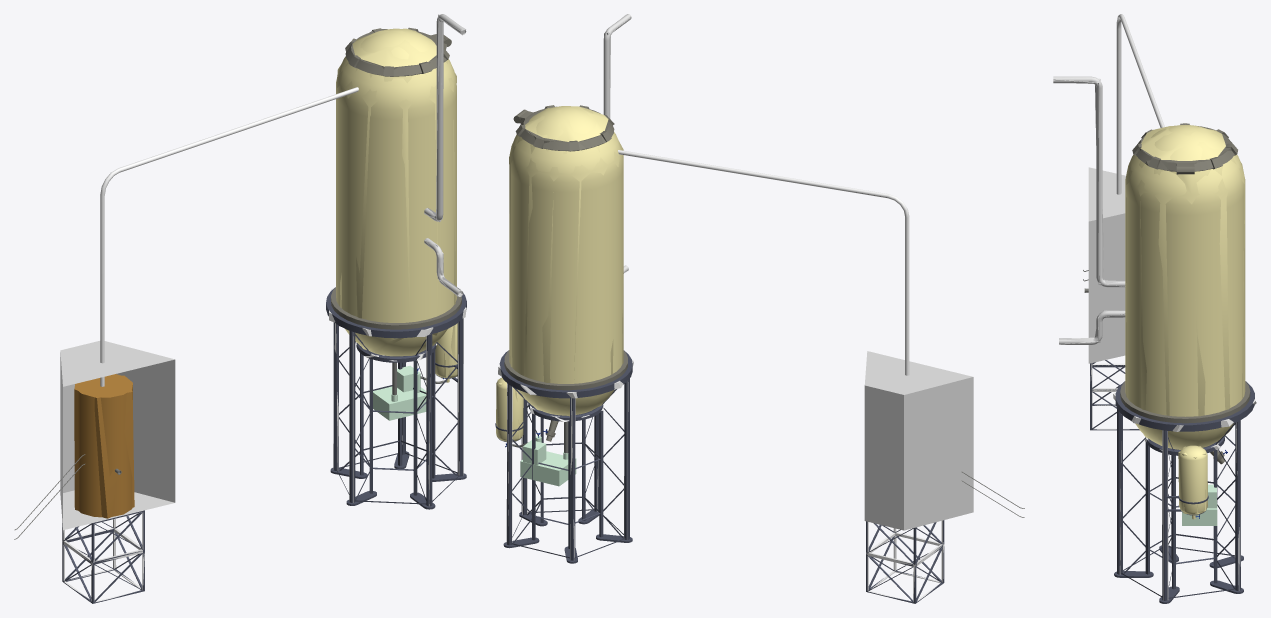
Rendered from Molten_Soil_Reactor.glb.
3 renders of one model, left to right at view 1: azimuth 30°, elevation 25°; view 2: azimuth 150°, elevation 25°; view 3: azimuth 270°, elevation 25°, orthographic. The views are drawn at different scales.
Visible parts, largest first — view 1: ReactorTank_M, MoltenSoilReactor_LOD0, MoltenSoilReactor_Tower_M, WaterTankStuff_M, WaterTank_M, ReactorTankConnections_M, MSReactor-HeatExchangerPipe_M, MSReactor-Insulation-on-Pipes_M; view 2: ReactorTank_M, MoltenSoilReactor_LOD0, MoltenSoilReactor_Tower_M, WaterTankStuff_M, ReactorTankConnections_M, MSReactor-HeatExchangerPipe_M, MSReactor-Insulation-on-Pipes_M; view 3: ReactorTank_M, MoltenSoilReactor_LOD0, MoltenSoilReactor_Tower_M, WaterTankStuff_M, ReactorTankConnections_M, MSReactor-Insulation-on-Pipes_M, MSReactor-HeatExchangerPipe_M.
Part boxes in pixels (<box>): ReactorTank_M: <box>331,27,461,356</box>; MoltenSoilReactor_LOD0: <box>60,14,466,602</box>; MoltenSoilReactor_Tower_M: <box>326,287,466,509</box>; WaterTankStuff_M: <box>14,346,175,603</box>; WaterTank_M: <box>74,374,132,517</box>; ReactorTankConnections_M: <box>373,323,457,420</box>; MSReactor-HeatExchangerPipe_M: <box>100,87,358,386</box>; MSReactor-Insulation-on-Pipes_M: <box>424,14,466,296</box>; ReactorTank_M: <box>504,105,627,441</box>; MoltenSoilReactor_LOD0: <box>497,14,973,601</box>; MoltenSoilReactor_Tower_M: <box>499,350,632,563</box>; WaterTankStuff_M: <box>864,356,1024,603</box>; ReactorTankConnections_M: <box>495,377,576,486</box>; MSReactor-HeatExchangerPipe_M: <box>618,150,909,375</box>; MSReactor-Insulation-on-Pipes_M: <box>603,14,631,273</box>; ReactorTank_M: <box>1120,123,1250,464</box>; MoltenSoilReactor_LOD0: <box>1053,78,1256,600</box>; MoltenSoilReactor_Tower_M: <box>1114,381,1254,603</box>; WaterTankStuff_M: <box>1083,167,1139,430</box>; ReactorTankConnections_M: <box>1166,445,1217,525</box>; MSReactor-Insulation-on-Pipes_M: <box>1053,76,1125,344</box>; MSReactor-HeatExchangerPipe_M: <box>1116,14,1164,194</box>.
Size of what is drawn, in the model's own units: 45.21 by 43.32 by 15.99.
